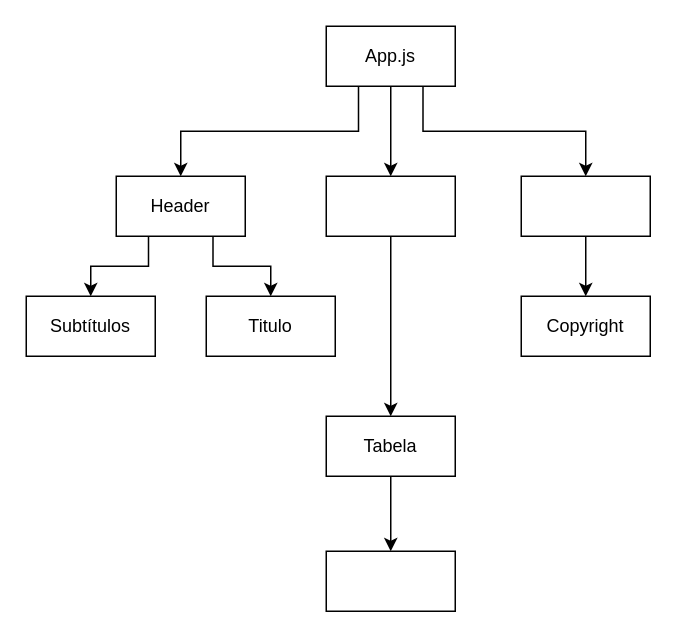
Some shapes in this 677 by 638 pixel diagram are drawn without their labels. The centre of each missing label's shape, as x and y in pixels:
Content: point (390, 205)
Footer: point (585, 205)
Imagens: point (390, 580)
